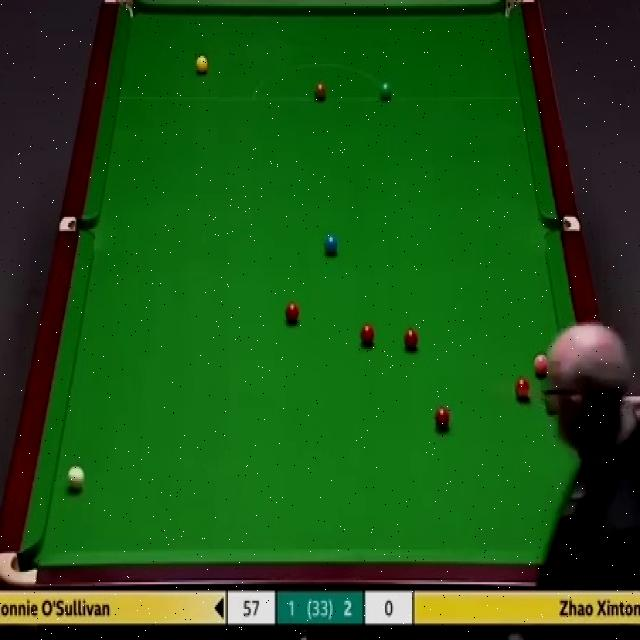blue-ball: (325, 234, 338, 257)
brown-ball: (314, 83, 327, 102)
green-ball: (379, 81, 392, 101)
pink-ball: (534, 352, 550, 378)
red-ball: (433, 406, 451, 432), (359, 323, 375, 348), (404, 325, 419, 351), (514, 378, 530, 400), (286, 300, 300, 322)
white-ball: (66, 464, 84, 492)
yellow-ball: (195, 55, 210, 77)
